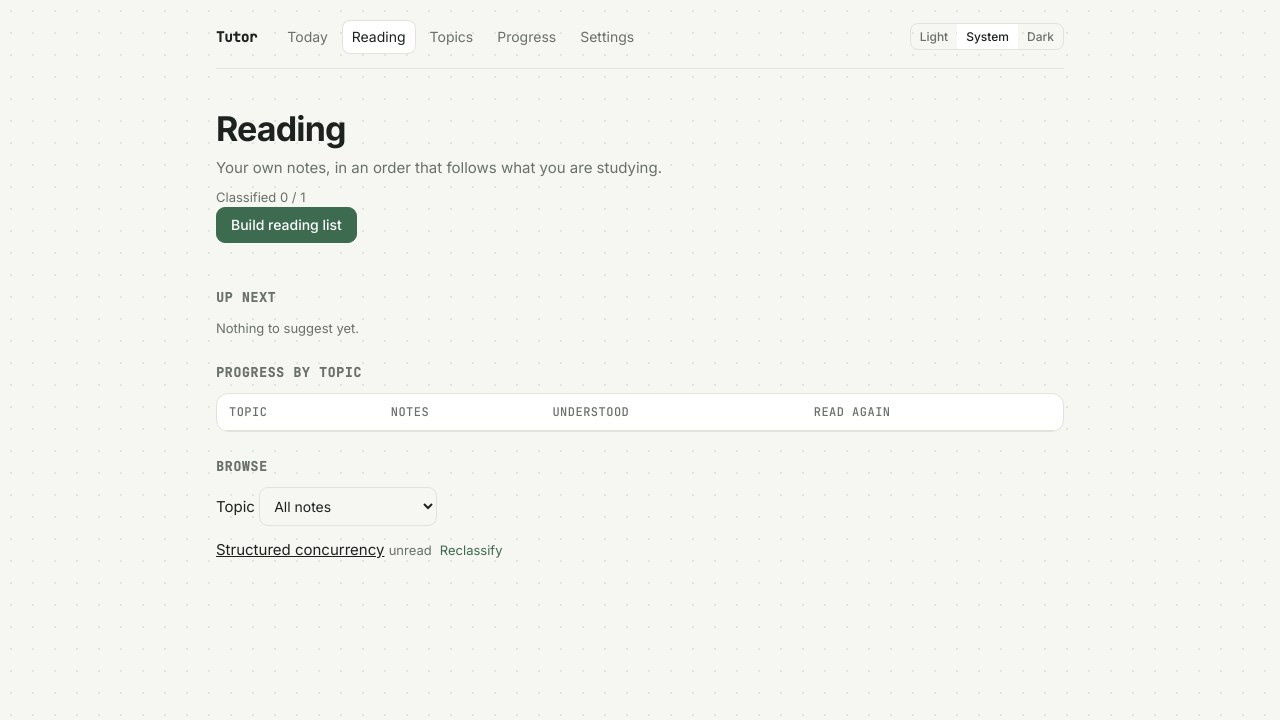
build reading list starts classification
What coordinates should you click on to do the following:
click the button "Build reading list"
I would click on:
 (286, 225)
Its box is [216,207,357,243].
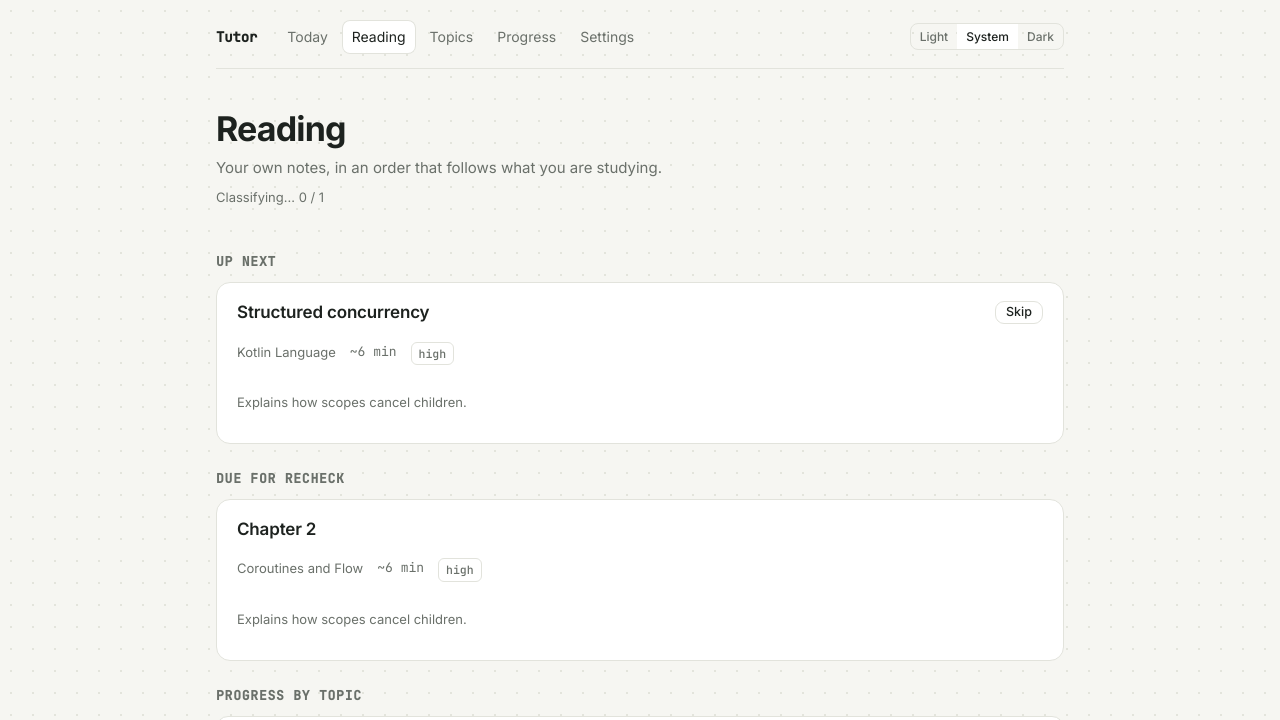
Result: the text "Classifying… 0 / 1" is shown at [216,189,324,205]
